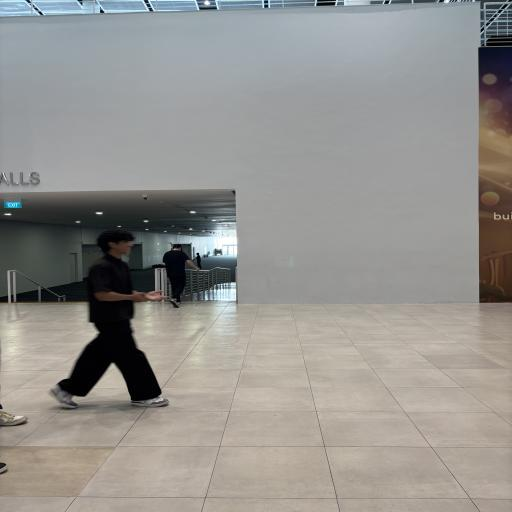person_right: (46, 226, 177, 416)
